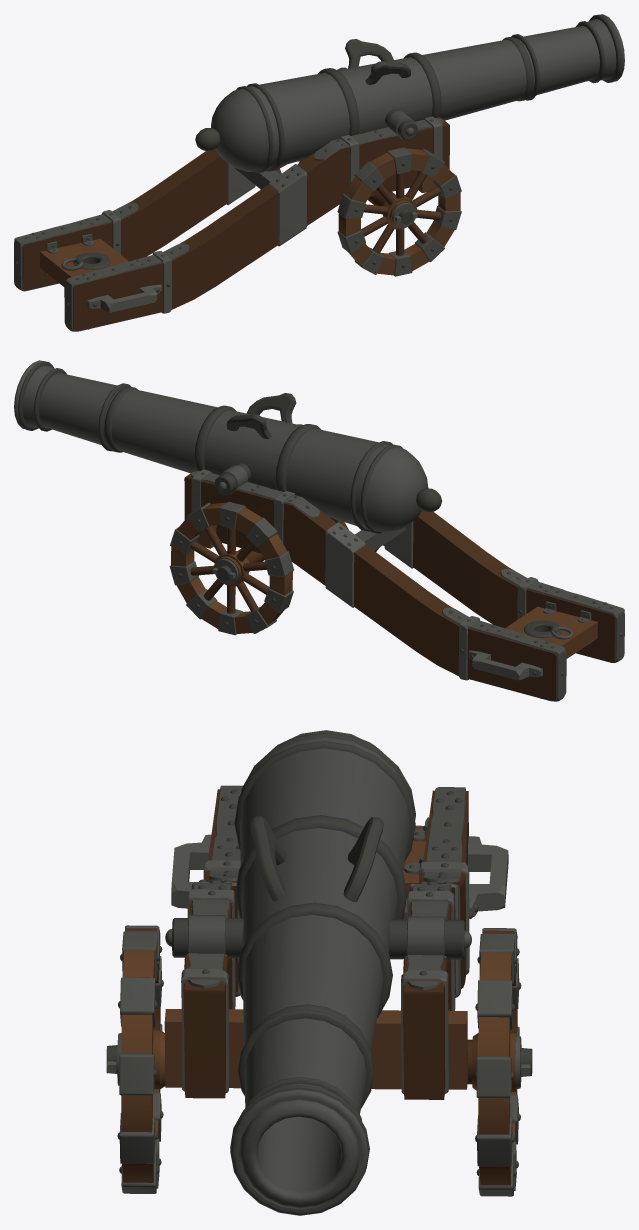
The picture shows the model from 3 angles, top to bottom: view 1: azimuth 30°, elevation 25°; view 2: azimuth 150°, elevation 25°; view 3: azimuth 270°, elevation 25°; orthographic projection. The views are drawn at different scales.
Visible parts, largest first — view 1: pCube47_Gun_Metal_Dark_0.001; view 2: pCube47_Gun_Metal_Dark_0.001; view 3: pCube47_Gun_Metal_Dark_0.001.
Boxes of the visible parts, x1,y1,x2,y2 form: pCube47_Gun_Metal_Dark_0.001: [14, 14, 624, 331]; pCube47_Gun_Metal_Dark_0.001: [14, 360, 624, 701]; pCube47_Gun_Metal_Dark_0.001: [106, 730, 532, 1215].
Size of the model in its own units: 2862 by 918 by 938.
